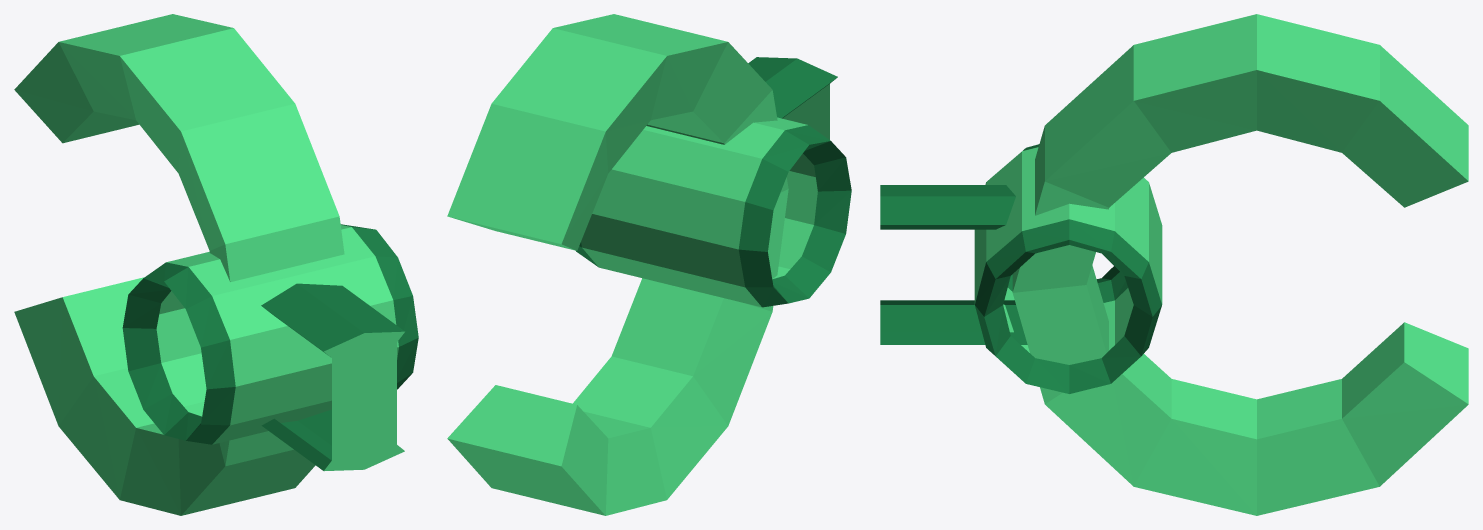
File: Hand.FBX
3 renders of one model, left to right at view 1: azimuth 30°, elevation 25°; view 2: azimuth 150°, elevation 25°; view 3: azimuth 270°, elevation 25°, orthographic.
Parts seen in each view (by area): view 1: VIFS002, VIFS001; view 2: VIFS002, VIFS001; view 3: VIFS002, VIFS001.
Part boxes in pixels (x1=…): VIFS002: x1=14, y1=14, x2=404, y2=515; VIFS001: x1=122, y1=224, x2=418, y2=470; VIFS002: x1=447, y1=14, x2=829, y2=515; VIFS001: x1=576, y1=57, x2=851, y2=307; VIFS002: x1=974, y1=14, x2=1468, y2=515; VIFS001: x1=880, y1=144, x2=1161, y2=393.
Bounding box in the file's own units: 0.13 × 0.26 × 0.311.
